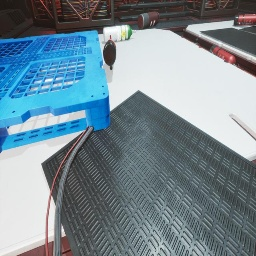0: (103, 25, 137, 43)
FireExtinguisher ]: (209, 45, 244, 71), (103, 35, 116, 70), (233, 14, 256, 26)
NitrogenTank ,: (138, 11, 160, 30)
